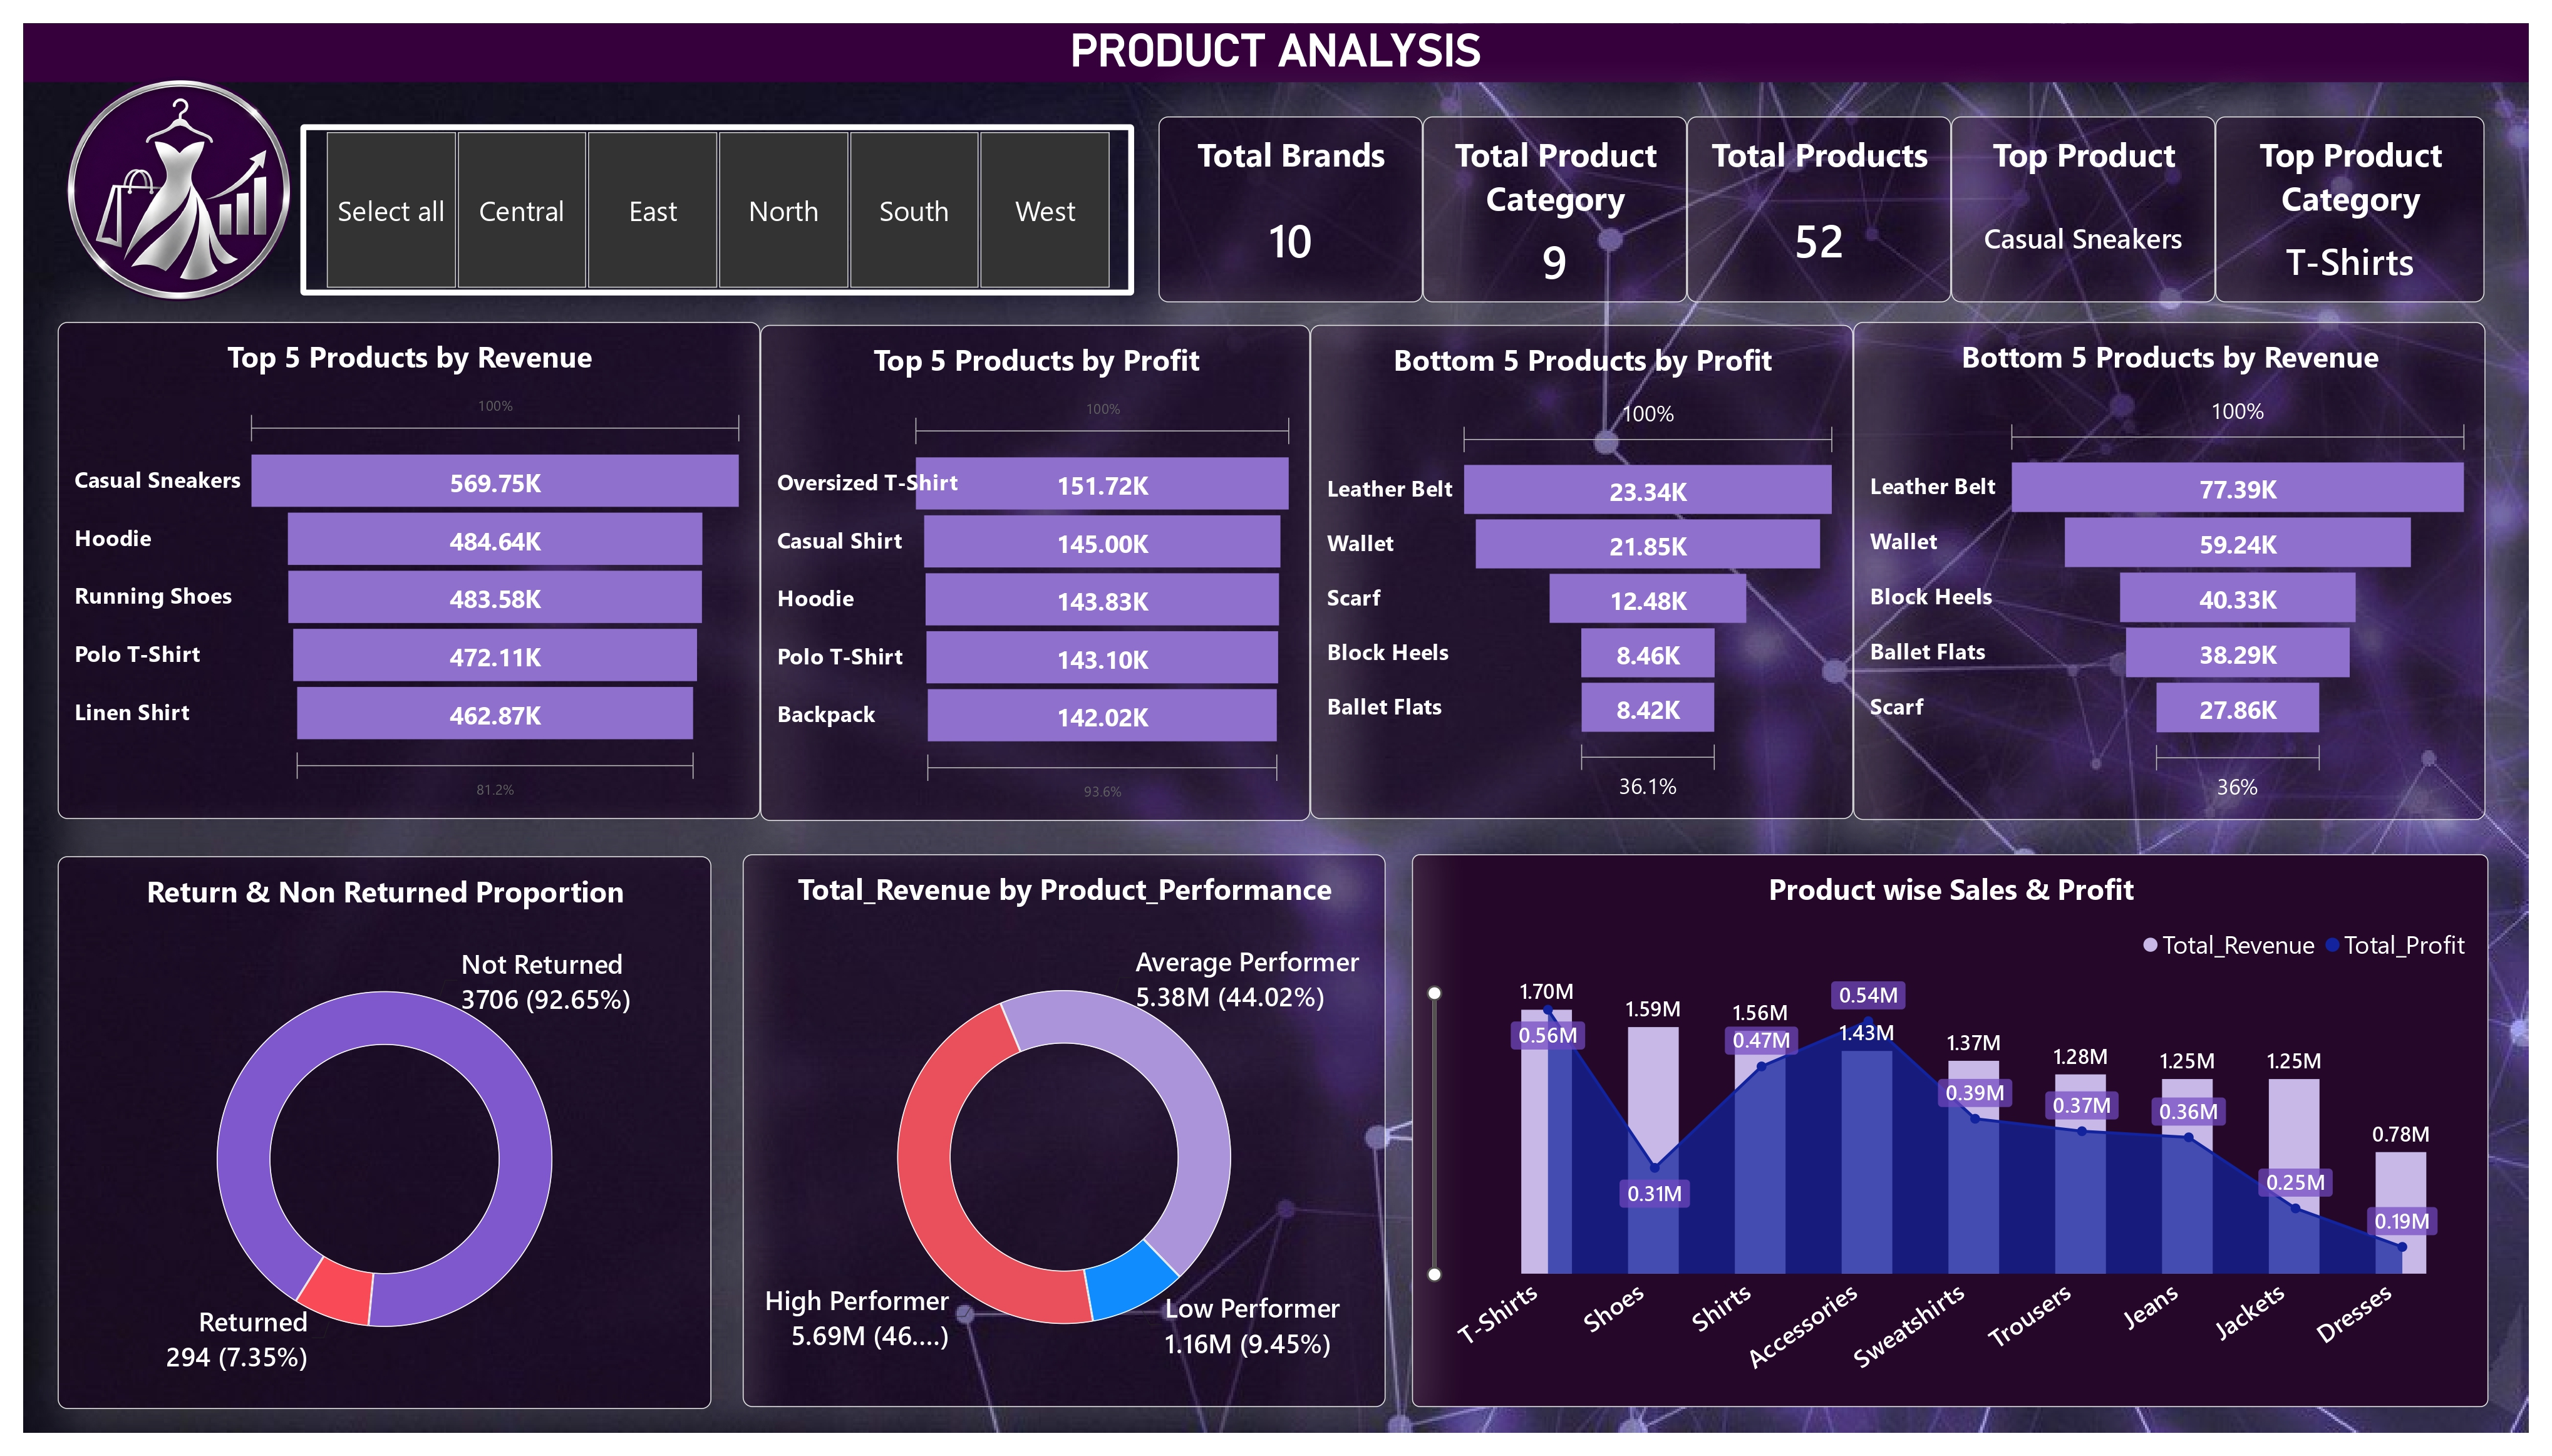

What the dashboard file says about the page in this screenshot:
{"tool":"powerbi","page":{"name":"Product_Analysis","canvas":[2560,1440],"ordinal":2},"visuals":[{"type":"shape","title":"PRODUCT ANALYSIS","box":[0,0,2560,60],"z":0},{"type":"funnel","title":"Bottom 5 Products by Revenue","fields":{"Category":["Product_dim.Product_Name"],"Y":["measure.Total_Revenue"]},"box":[1870.3,305.4,645.9,508.1],"z":1000},{"type":"funnel","title":"Top 5 Products by Revenue","fields":{"Category":["Product_dim.Product_Name"],"Y":["measure.Total_Revenue"]},"box":[35,305,717.5,507.5],"z":2000},{"type":"funnel","title":"Bottom 5 Products by Profit","fields":{"Category":["Product_dim.Product_Name"],"Y":["measure.Total_Profit"]},"box":[1315,307.5,555,505],"z":3000},{"type":"image","box":[35.1,54.1,247.5,230],"z":4000},{"type":"lineStackedColumnComboChart","title":"Product wise Sales & Profit","fields":{"Category":["Product_dim.Product_Category"],"Y":["measure.Total_Revenue"],"Y2":["measure.Total_Profit"]},"box":[1418.9,848.6,1100,564.9],"z":5000},{"type":"card","title":"Top Product","fields":{"Values":["measure.Top_Product"]},"box":[1970,95,270,190],"z":6000},{"type":"cardVisual","title":"Top Product Category","fields":{"Data":["measure.Top Product Category"]},"box":[2240,95,275,190],"z":7000},{"type":"pieChart","fields":{"Category":["Fashion_Sales_fact.Product_Performance"],"Y":["measure.Total_Revenue"]},"box":[735.1,848.6,656.8,564.9],"z":8000},{"type":"pieChart","title":"Return & Non Returned Proportion","fields":{"Category":["Fashion_Sales_fact.Return_Status"],"Y":["measure.Total_Orders"]},"box":[35.1,851.4,667.6,564.9],"z":9000},{"type":"cardVisual","title":"Total Products","fields":{"Data":["measure.Product_Name"]},"box":[1700,95,270,190],"z":10000},{"type":"cardVisual","title":"Total Product Category","fields":{"Data":["measure.Products"]},"box":[1430,95,270,190],"z":11000},{"type":"cardVisual","title":"Total Brands","fields":{"Data":["measure.Brands"]},"box":[1160,95,270,190],"z":12000},{"type":"funnel","title":"Top 5 Products by Profit","fields":{"Category":["Product_dim.Product_Name"],"Y":["measure.Total_Profit"]},"box":[752.5,307.5,562.5,507.5],"z":13000},{"type":"slicer","fields":{"Values":["Territory_dim.Region"]},"box":[282.5,102.5,852.5,175],"z":14000}]}

Visuals, with their boxes on the page's 2560x1440 design canvas (x1, y1, x2, y2). These are canvas units, not pixel positions in the 2552x1456 screenshot, which may show the page scaled, cropped or inside an application window:
"PRODUCT ANALYSIS" shape: [0,0,2560,60]
"Bottom 5 Products by Revenue" funnel: [1870,305,2516,814]
"Top 5 Products by Revenue" funnel: [35,305,752,812]
"Bottom 5 Products by Profit" funnel: [1315,308,1870,812]
image: [35,54,283,284]
"Product wise Sales & Profit" lineStackedColumnComboChart: [1419,849,2519,1414]
"Top Product" card: [1970,95,2240,285]
"Top Product Category" cardVisual: [2240,95,2515,285]
pieChart - Fashion_Sales_fact.Product_Performance x measure.Total_Revenue: [735,849,1392,1414]
"Return & Non Returned Proportion" pieChart: [35,851,703,1416]
"Total Products" cardVisual: [1700,95,1970,285]
"Total Product Category" cardVisual: [1430,95,1700,285]
"Total Brands" cardVisual: [1160,95,1430,285]
"Top 5 Products by Profit" funnel: [752,308,1315,815]
slicer - Territory_dim.Region: [282,102,1135,278]
